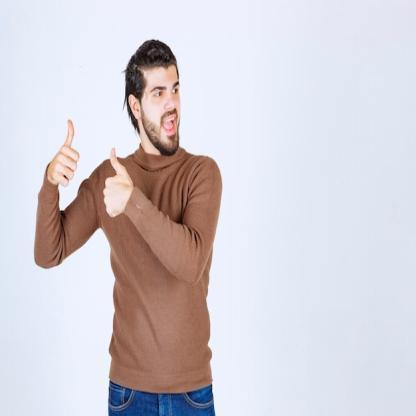thumb_up: (46, 113, 82, 189), (98, 146, 134, 222)
